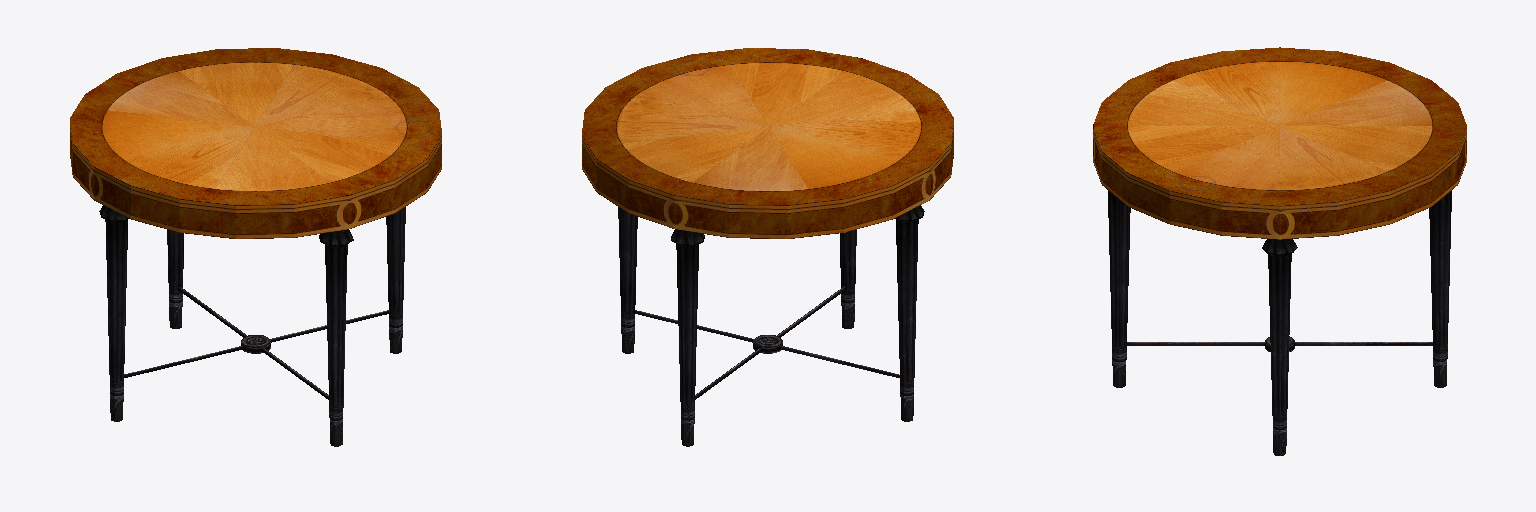
3 renders of one model, left to right at view 1: azimuth 30°, elevation 25°; view 2: azimuth 150°, elevation 25°; view 3: azimuth 270°, elevation 25°, orthographic.
Visible parts, largest first — view 1: sidetable; view 2: sidetable; view 3: sidetable.
Part boxes in pixels (left/top/right/bottom): sidetable: left=70, top=48, right=441, bottom=446; sidetable: left=582, top=48, right=953, bottom=446; sidetable: left=1093, top=47, right=1466, bottom=455.
Bounding box in the file's own units: 159 × 121 × 159.
1 materials, 1 textured.